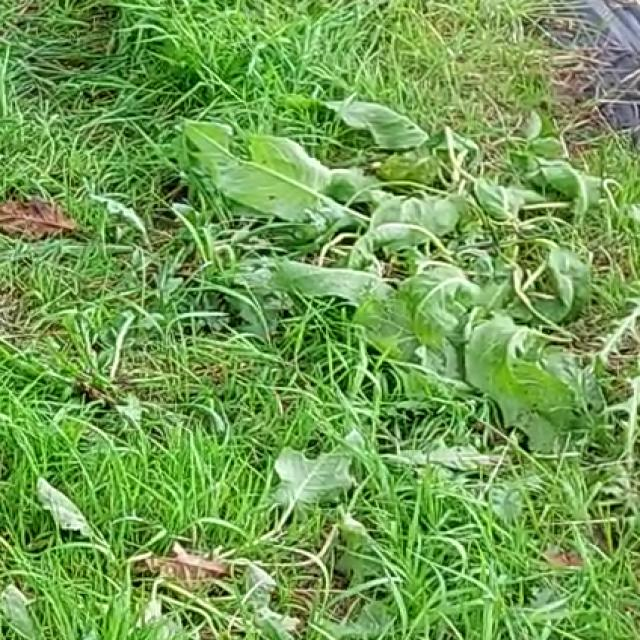organic waste: (166, 80, 640, 440)
